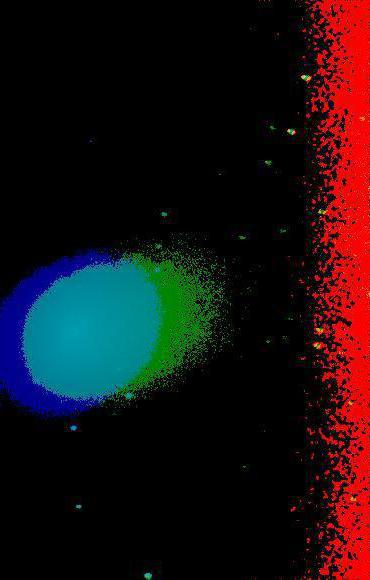star: (47, 490, 77, 520)
